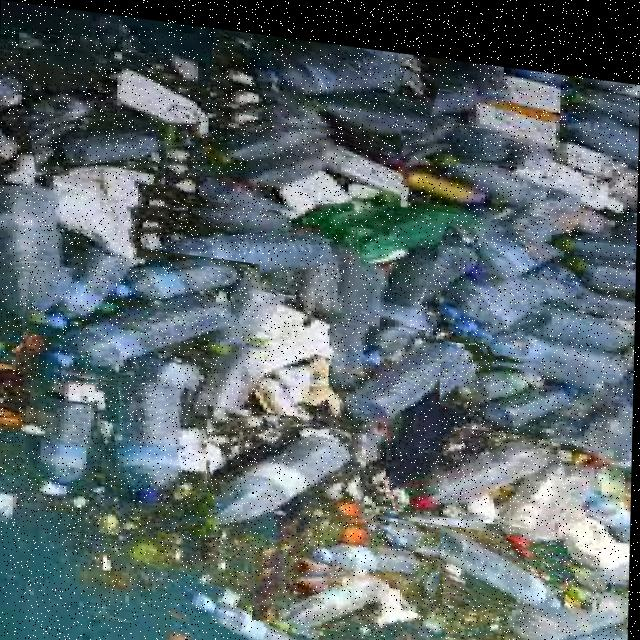litter: (159, 394, 367, 570), (20, 261, 243, 400), (119, 176, 362, 294), (209, 22, 436, 146), (93, 325, 211, 532), (427, 196, 592, 344), (375, 505, 600, 609), (328, 306, 498, 435), (386, 400, 572, 517), (399, 118, 581, 214), (288, 496, 442, 608), (440, 332, 595, 428), (0, 167, 86, 338), (28, 102, 205, 183), (87, 239, 264, 319), (478, 548, 631, 640), (254, 546, 403, 628), (491, 271, 636, 354), (168, 575, 319, 640)
